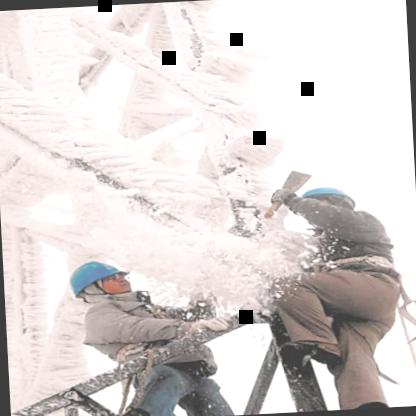helmet: (68, 250, 136, 307), (297, 176, 356, 216)
